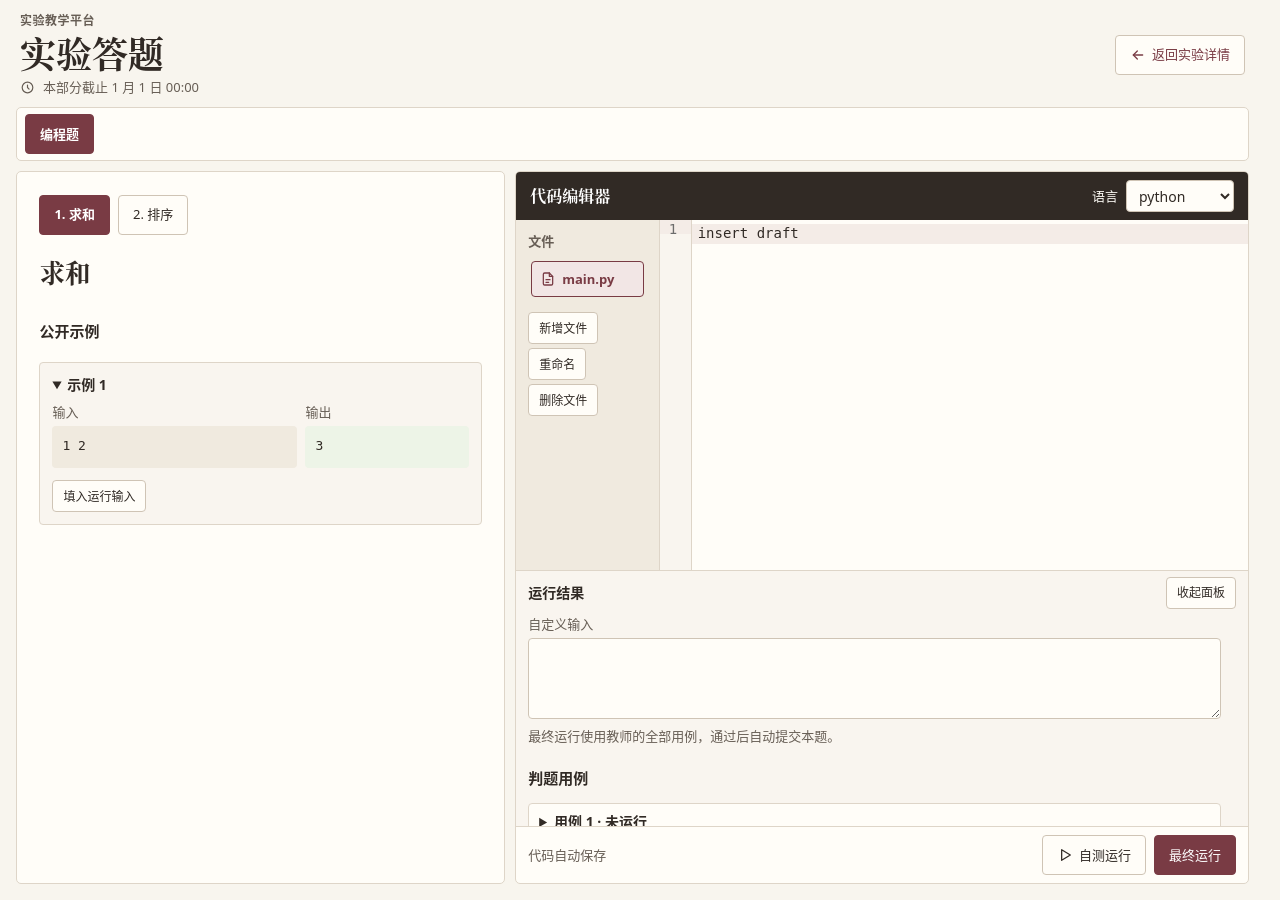
Test: displays hidden case verdicts and advances after a passing final run
This screenshot has width=1280, height=900.
Earlier steps of the test are not shown.
Step 1. Click the button "收起面板" → click(1201, 593), box x1=1166 y1=577 x2=1236 y2=609
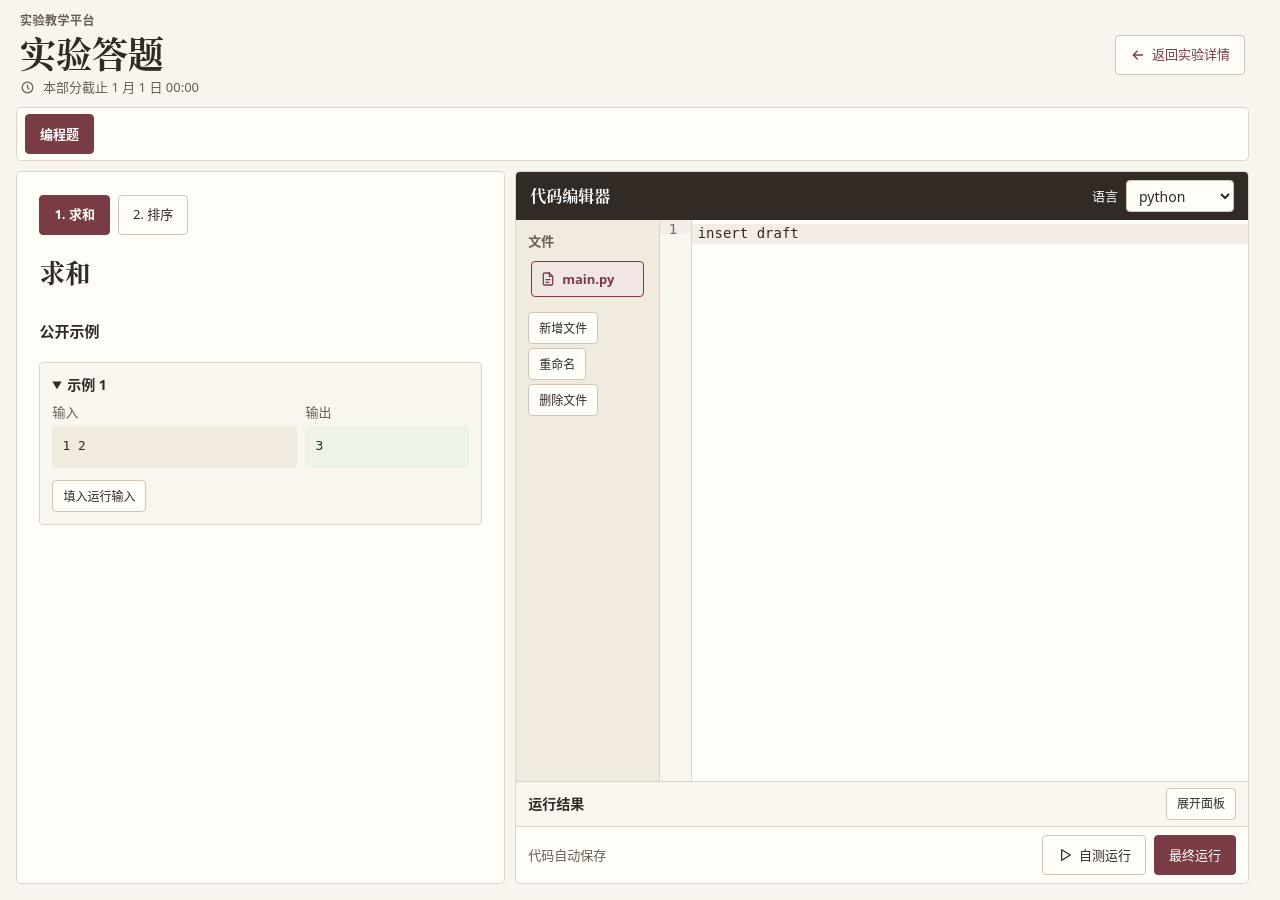
Step 2. Click the button "自测运行" → click(1094, 855), box x1=1042 y1=835 x2=1146 y2=875
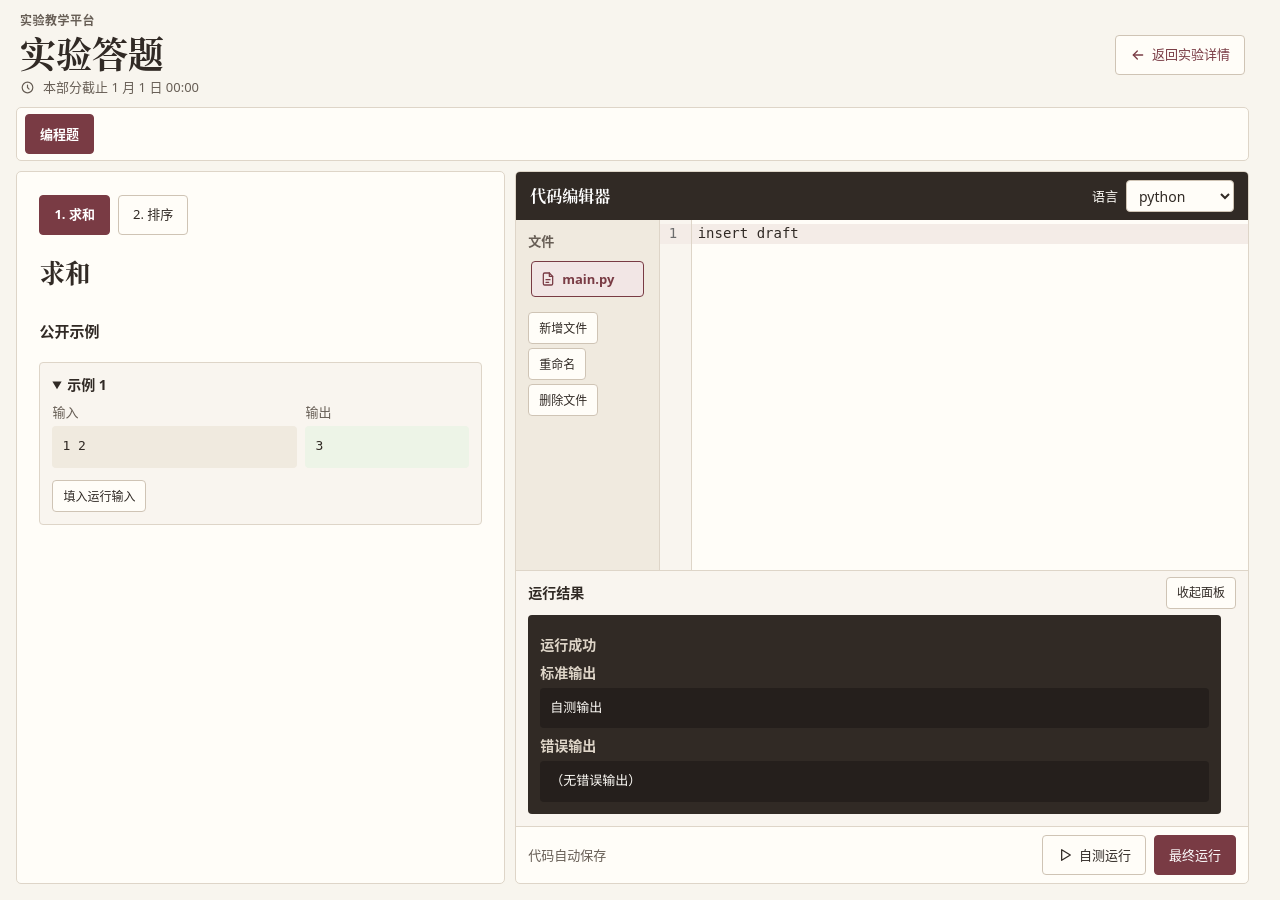
Result: the text "自测输出" is shown at x1=540 y1=688 x2=1209 y2=728
Result: the button "收起面板" is expanded at x1=1166 y1=577 x2=1236 y2=609
Step 3. Click the button "最终运行" → click(1195, 855), box x1=1154 y1=835 x2=1236 y2=875
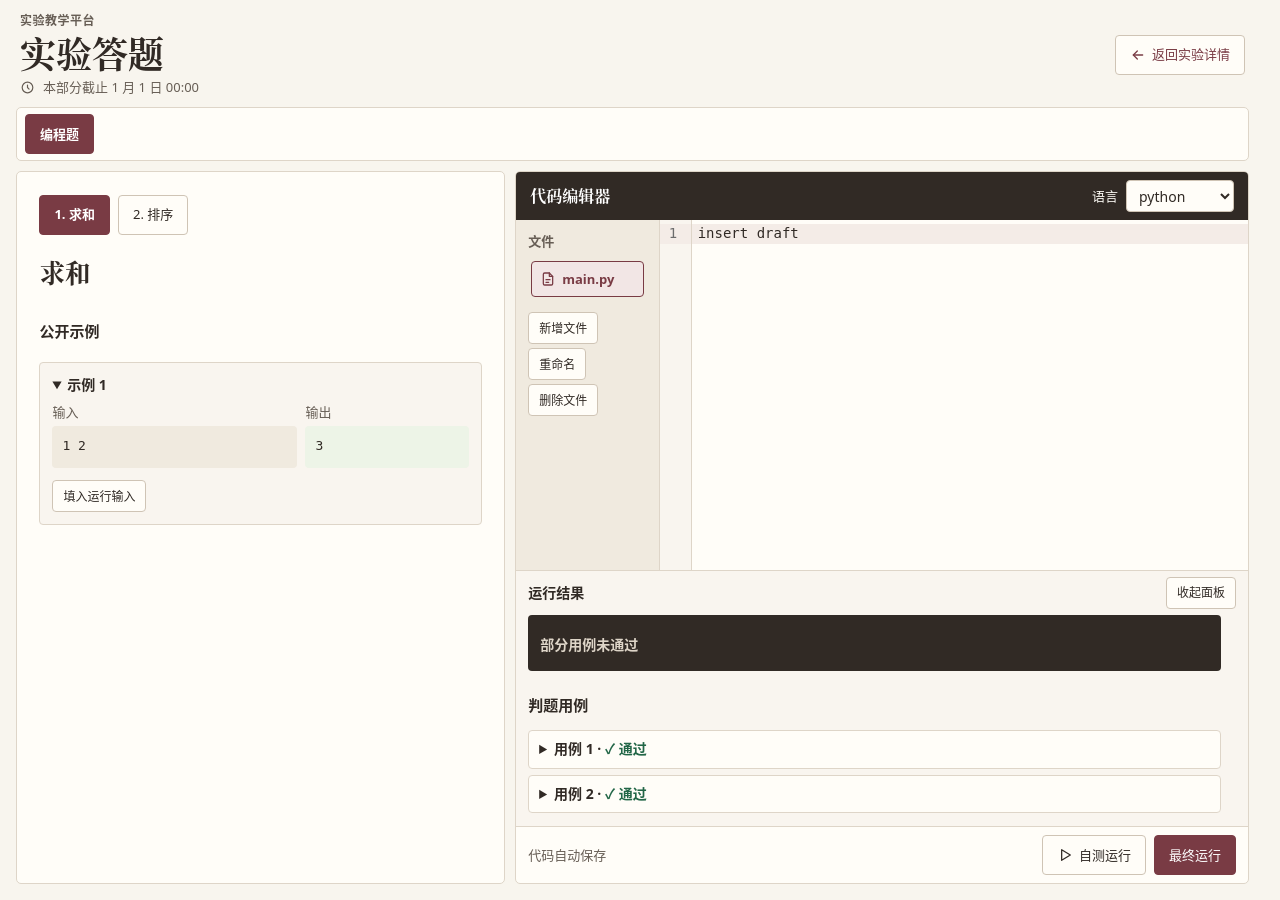
Step 4. Click the button "最终运行" → click(1195, 855), box x1=1154 y1=835 x2=1236 y2=875
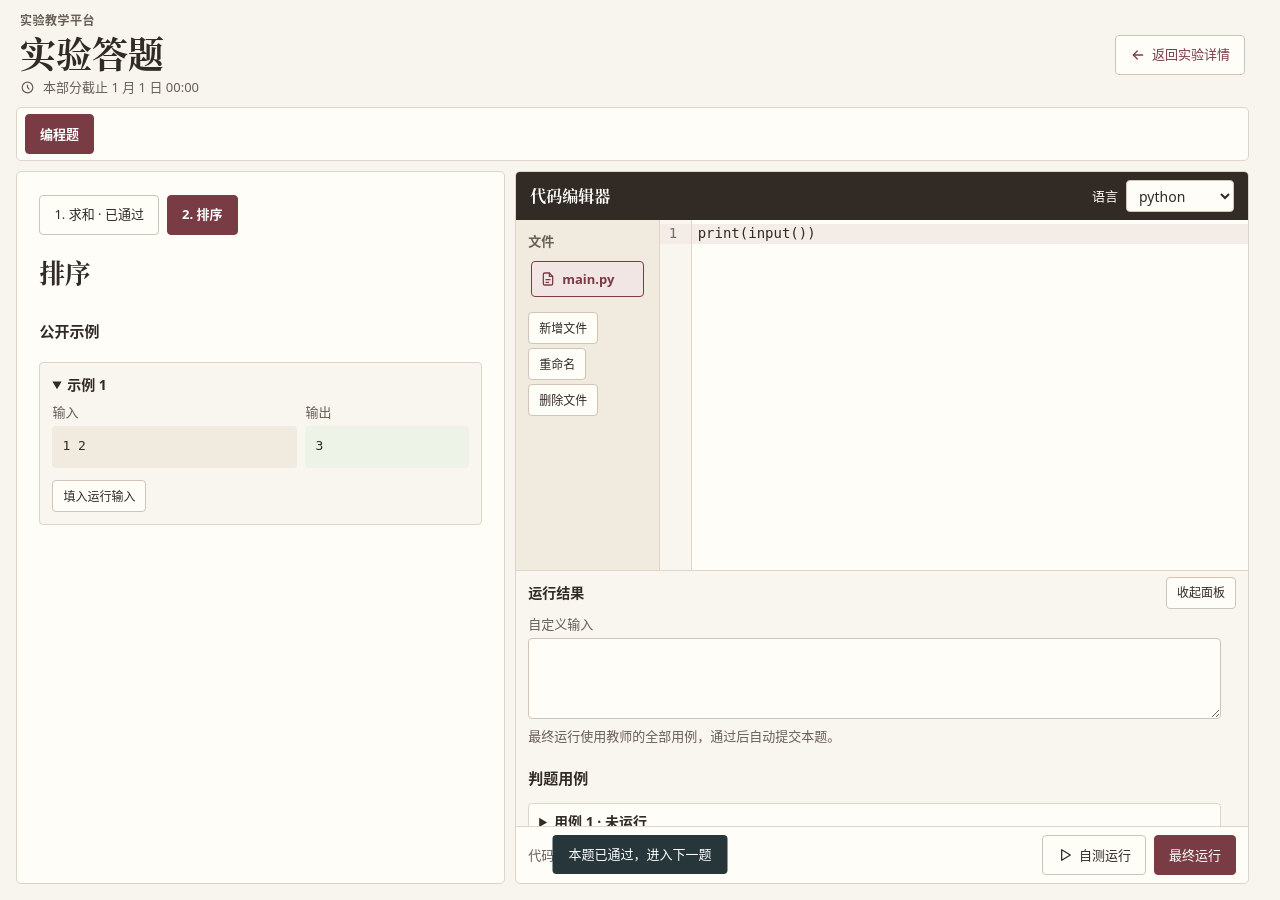
Result: the button "1. 求和 · 已通过" is shown at x1=39 y1=194 x2=159 y2=234
